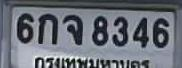3: (111, 16, 127, 46)
4: (132, 16, 148, 47)
6: (16, 12, 33, 43), (152, 17, 168, 47)
8: (91, 15, 107, 45)
A01: (37, 13, 57, 44)
A08: (62, 14, 82, 44)
